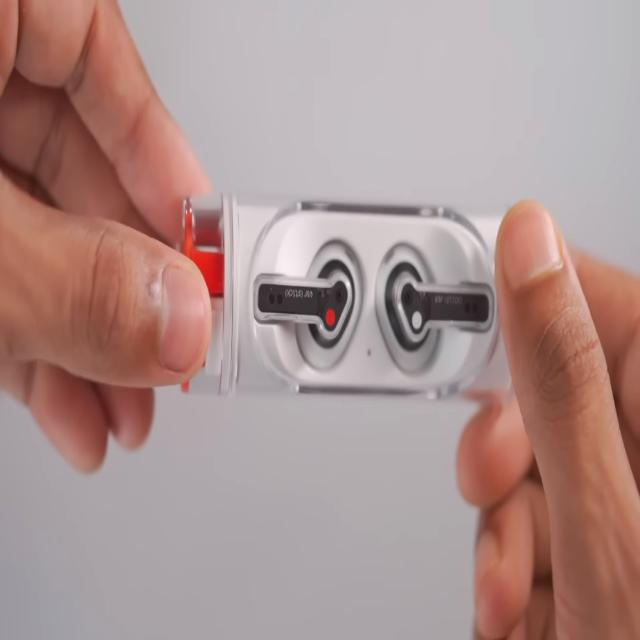airpods: (372, 240, 499, 378), (251, 236, 365, 375)
